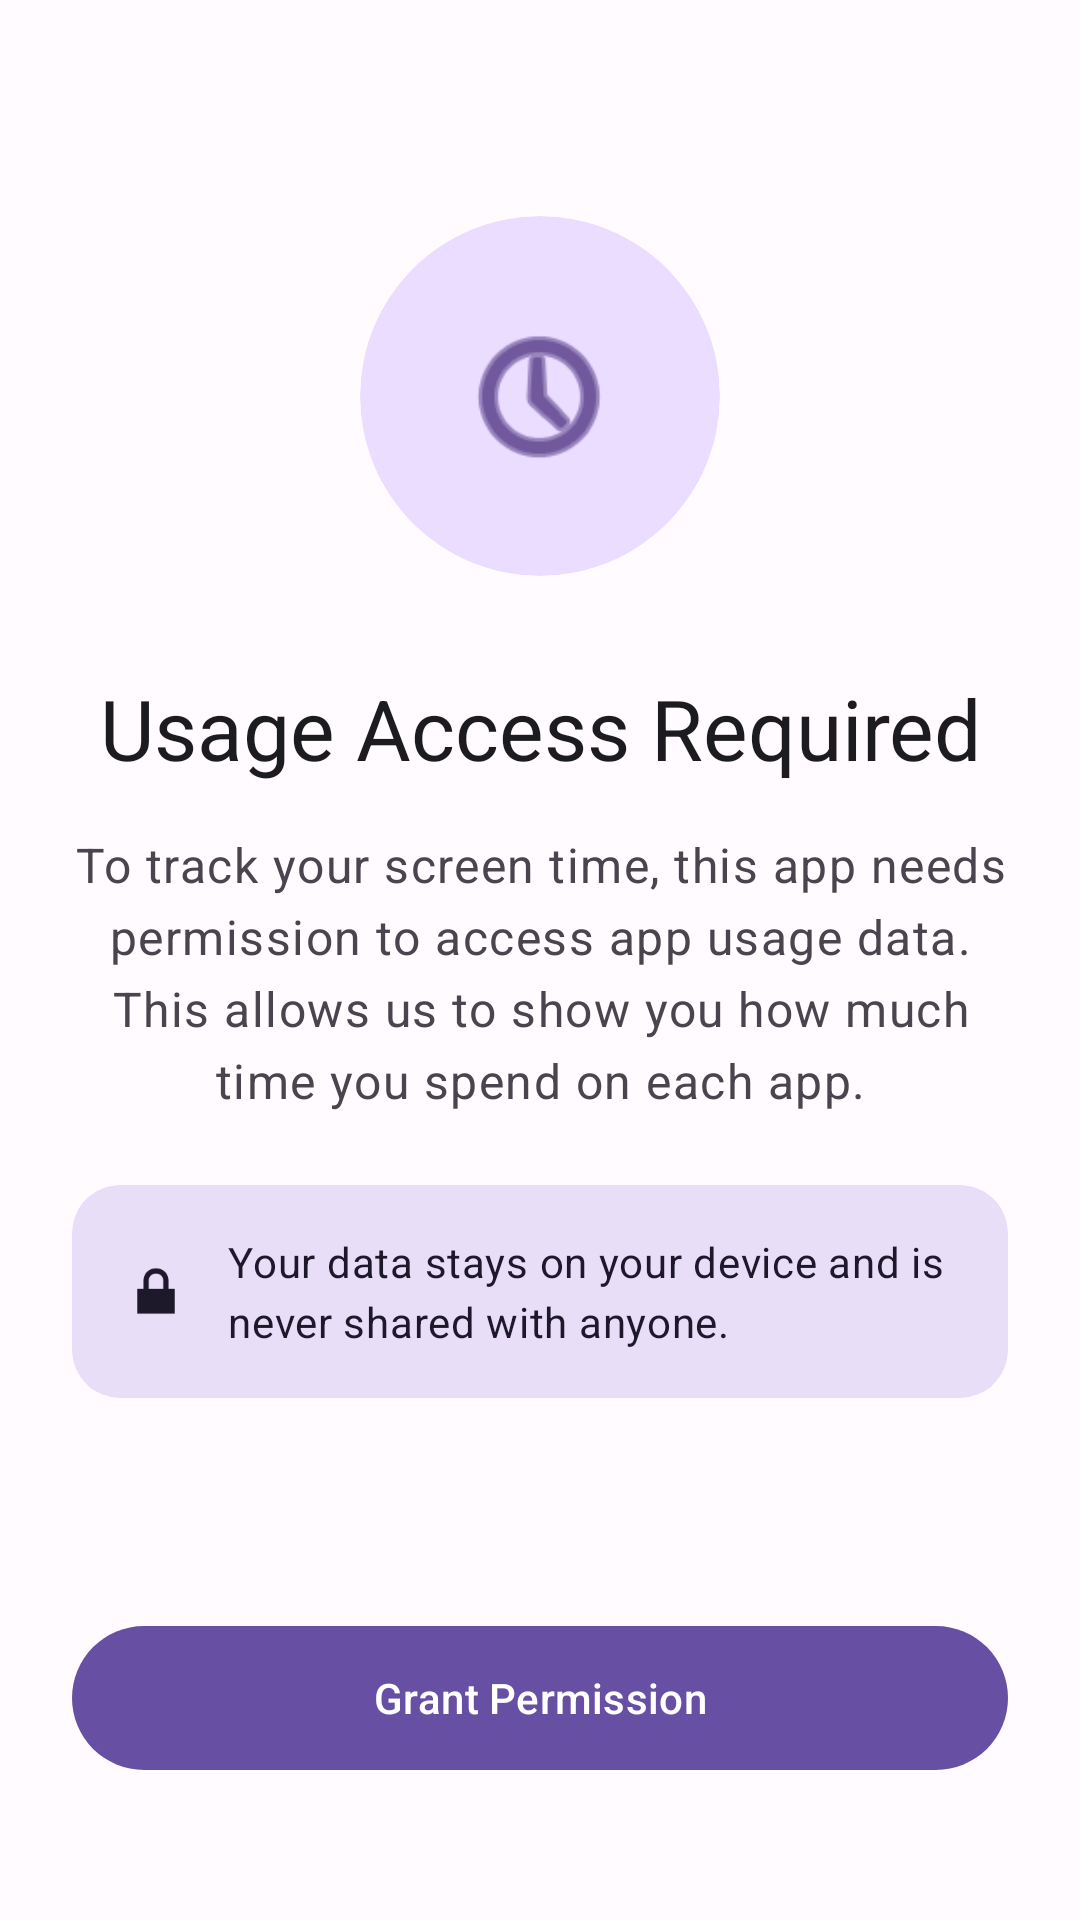

Locate icon controls on the screen. Image size 1080px x 1920px, boxes as [x1, y1, x2, y2].
lock: [137, 1268, 175, 1314]
recent history: [478, 336, 600, 458]
